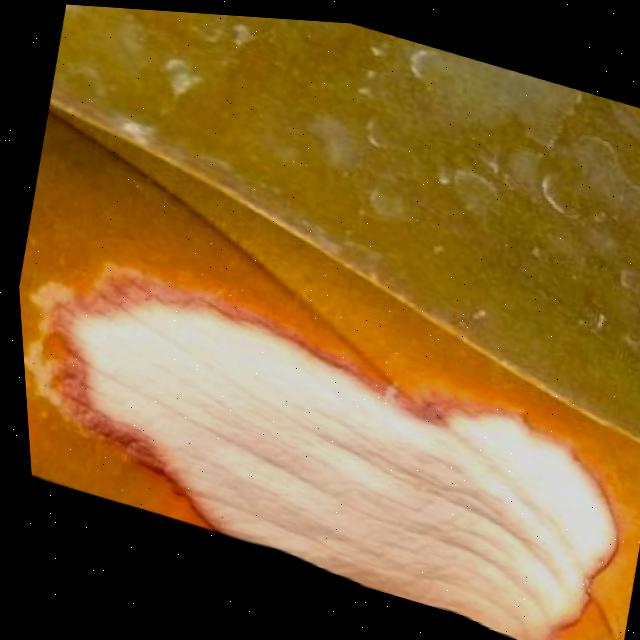mite: (40, 3, 640, 310), (312, 19, 640, 368), (330, 20, 574, 259), (392, 32, 581, 152), (524, 109, 640, 262), (349, 154, 424, 230), (294, 95, 367, 170), (529, 150, 589, 214), (493, 126, 547, 190), (359, 168, 410, 216), (403, 33, 439, 75)
sunburn: (18, 229, 640, 640)
